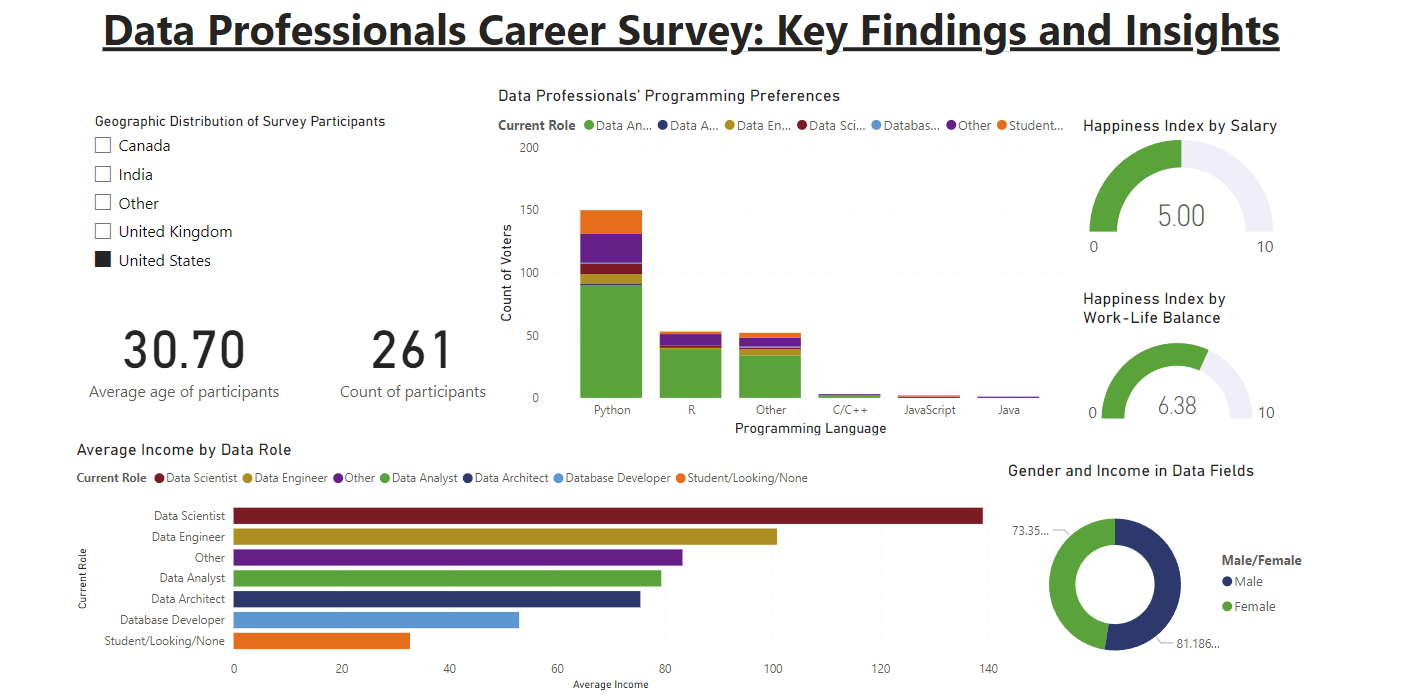

The page's visual inventory and layout, read from the dashboard file:
{"tool":"powerbi","page":{"name":"Survey Study","canvas":[1280,720],"ordinal":0},"visuals":[{"type":"textbox","box":[9.7,0,1259.8,115],"z":0},{"type":"card","fields":{"Values":["Count(Data Professional Survey.Unique ID)"]},"box":[240.2,297.4,232.2,130.4],"z":1000},{"type":"card","fields":{"Values":["Avg(Data Professional Survey.Q10 - Current Age)"]},"box":[9.5,297.4,230.6,130.4],"z":2000},{"type":"barChart","title":"Average Income by Current Role","fields":{"Category":["Data Professional Survey.Q1 - Which Title Best Fits your Current Role?.1"],"Y":["Avg(Data Professional Survey.Average Income)"],"Series":["Data Professional Survey.Q1 - Which Title Best Fits your Current Role?.1"]},"box":[11.3,451.8,944,259.1],"z":3000},{"type":"columnChart","title":"Favorite Programming Languages","fields":{"Category":["Data Professional Survey.Q5 - Favorite Programming Language.1"],"Y":["CountNonNull(Data Professional Survey.Unique ID)"],"Series":["Data Professional Survey.Q1 - Which Title Best Fits your Current Role?.1"]},"box":[438.8,92.3,592.6,359.5],"z":4000},{"type":"slicer","fields":{"Values":["Data Professional Survey.Q11 - Which Country do you live in?.1"]},"box":[21,115,401.6,183],"z":5000},{"type":"gauge","title":"Happiness with current salary","fields":{"Y":["Avg(Data Professional Survey.Q6 - How Happy are you in your Current Position with the following? (Salary))"],"MinValue":["Min(Data Professional Survey.Q6 - How Happy are you in your Current Position with the following? (Salary))1"],"MaxValue":["Max(Data Professional Survey.Q6 - How Happy are you in your Current Position with the following? (Salary))2"]},"box":[1031.4,123.1,208.9,153.8],"z":5001},{"type":"gauge","title":"Happiness with work/life balance","fields":{"Y":["Avg(Data Professional Survey.Q6 - How Happy are you in your Current Position with the following? (Work/Life Balance))"],"MinValue":["Min(Data Professional Survey.Q6 - How Happy are you in your Current Position with the following? (Work/Life Balance))"],"MaxValue":["Max(Data Professional Survey.Q6 - How Happy are you in your Current Position with the following? (Work/Life Balance))1"]},"box":[1031.4,297.9,208.9,153.8],"z":5002},{"type":"donutChart","title":"Average Income by Gender","fields":{"Category":["Data Professional Survey.Q9 - Male/Female?"],"Y":["Avg(Data Professional Survey.Average Income)"]},"box":[955.3,472.8,325.5,231.5],"z":5003}]}

Visuals, with their boxes on the page's 1280x720 design canvas (x1, y1, x2, y2). These are canvas units, not pixel positions in the 1411x700 screenshot, which may show the page scaled, cropped or inside an application window:
textbox: 10:0:1270:115
card - Count(Data Professional Survey.Unique ID): 240:297:472:428
card - Avg(Data Professional Survey.Q10 - Current Age): 10:297:240:428
"Average Income by Current Role" barChart: 11:452:955:711
"Favorite Programming Languages" columnChart: 439:92:1031:452
slicer - Data Professional Survey.Q11 - Which Country do you live in?.1: 21:115:423:298
"Happiness with current salary" gauge: 1031:123:1240:277
"Happiness with work/life balance" gauge: 1031:298:1240:452
"Average Income by Gender" donutChart: 955:473:1281:704
